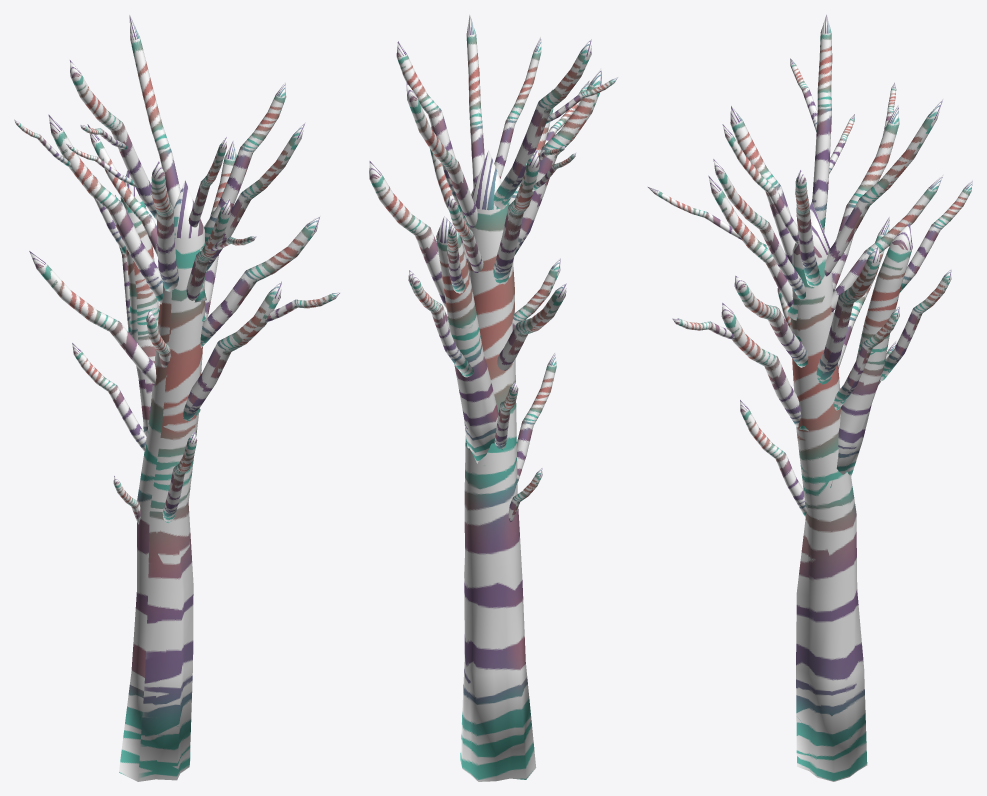
The model's file is tree_trunk_01.fbx.
The picture shows the model from 3 angles, left to right: view 1: azimuth 30°, elevation 25°; view 2: azimuth 150°, elevation 25°; view 3: azimuth 270°, elevation 25°; orthographic projection. The views are drawn at different scales.
Parts seen in each view (by area): view 1: tree_trunk; view 2: tree_trunk; view 3: tree_trunk.
Boxes of the visible parts, x1=… form: tree_trunk: x1=14, y1=15, x2=340, y2=781; tree_trunk: x1=369, y1=14, x2=618, y2=781; tree_trunk: x1=648, y1=14, x2=972, y2=781.
Size of the model in its own units: 9.14 by 28.53 by 11.88.
